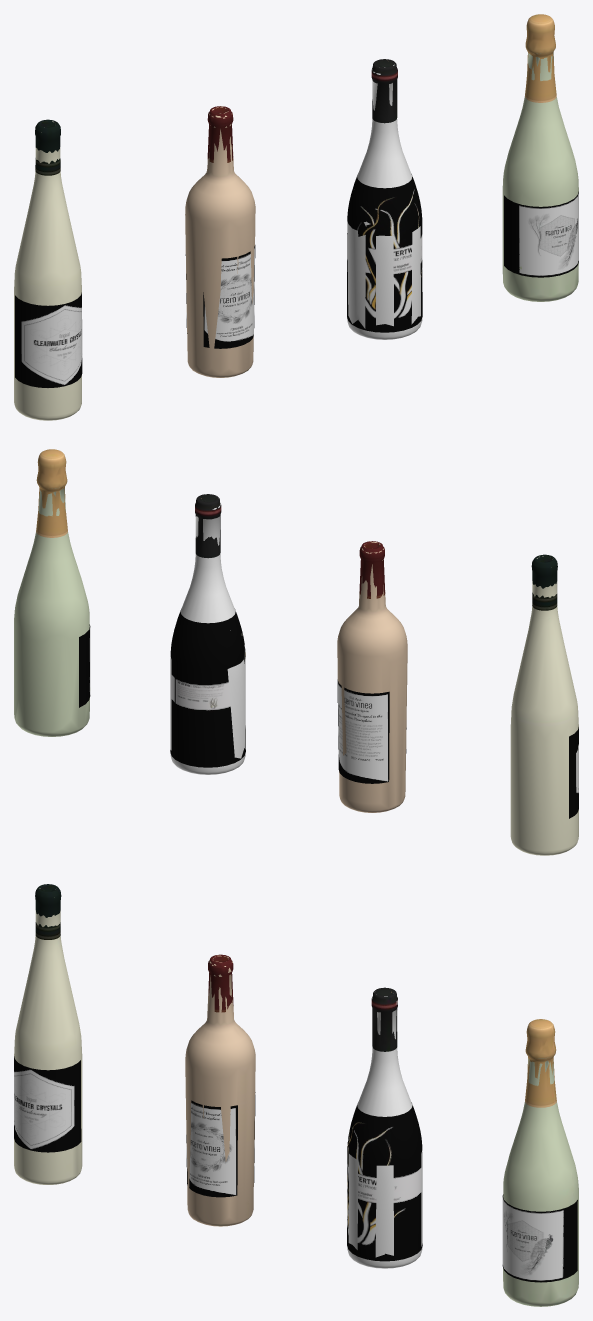
File: wine_bottles_01.glb
3 views of the same model, one above another, from view 1: azimuth 30°, elevation 25°; view 2: azimuth 150°, elevation 25°; view 3: azimuth 330°, elevation 25° (orthographic).
Visible parts, largest first — view 1: wine_bottles_01_bordeaux, wine_bottles_01_burgundy, wine_bottles_01_alsace, wine_bottles_01_champagne; view 2: wine_bottles_01_bordeaux, wine_bottles_01_burgundy, wine_bottles_01_champagne, wine_bottles_01_alsace; view 3: wine_bottles_01_bordeaux, wine_bottles_01_burgundy, wine_bottles_01_alsace, wine_bottles_01_champagne.
Part boxes in pixels (bbox=[...]): wine_bottles_01_bordeaux: bbox=[14, 14, 578, 420]; wine_bottles_01_burgundy: bbox=[347, 174, 422, 332]; wine_bottles_01_alsace: bbox=[15, 292, 82, 387]; wine_bottles_01_champagne: bbox=[504, 191, 578, 277]; wine_bottles_01_bordeaux: bbox=[14, 449, 578, 855]; wine_bottles_01_burgundy: bbox=[170, 609, 245, 767]; wine_bottles_01_champagne: bbox=[79, 624, 90, 707]; wine_bottles_01_alsace: bbox=[569, 727, 578, 818]; wine_bottles_01_bordeaux: bbox=[14, 884, 578, 1306]; wine_bottles_01_burgundy: bbox=[347, 1102, 422, 1261]; wine_bottles_01_alsace: bbox=[14, 1056, 81, 1152]; wine_bottles_01_champagne: bbox=[502, 1194, 577, 1282].
Size of the model in its own units: 0.6763 by 0.3314 by 0.0805.
Materials: 9 (6 with a texture image).
